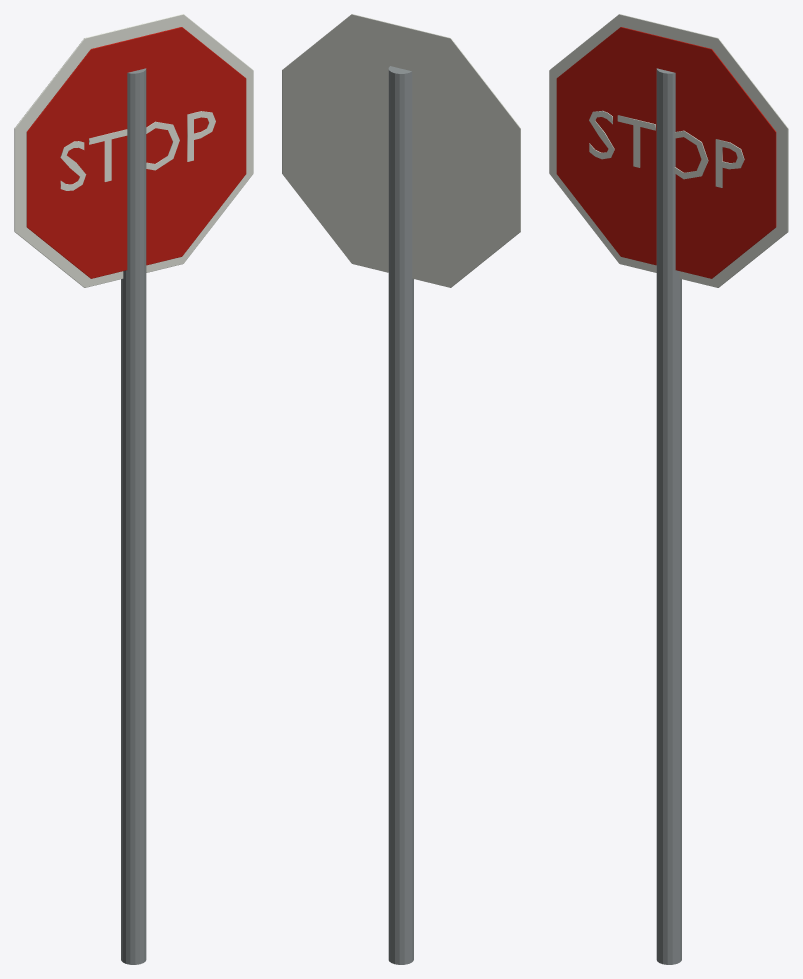
The model's file is stop-sign.glb.
The picture shows the model from 3 angles, left to right: view 1: azimuth 30°, elevation 25°; view 2: azimuth 150°, elevation 25°; view 3: azimuth 330°, elevation 25°; orthographic projection.
Visible parts, largest first — view 1: Rolled aluminum stop sign.001, Cylinder, Rolled aluminum stop sign, STOP lettering; view 2: Rolled aluminum stop sign, Cylinder; view 3: Rolled aluminum stop sign.001, Cylinder, Rolled aluminum stop sign, STOP lettering.
Part boxes in pixels (left/top/right/bottom): Rolled aluminum stop sign.001: left=26, top=27, right=246, bottom=278; Cylinder: left=121, top=68, right=146, bottom=964; Rolled aluminum stop sign: left=14, top=14, right=253, bottom=287; STOP lettering: left=60, top=111, right=215, bottom=190; Rolled aluminum stop sign: left=282, top=14, right=520, bottom=287; Cylinder: left=388, top=66, right=413, bottom=964; Rolled aluminum stop sign.001: left=556, top=27, right=776, bottom=278; Cylinder: left=656, top=68, right=681, bottom=964; Rolled aluminum stop sign: left=549, top=14, right=788, bottom=287; STOP lettering: left=589, top=110, right=744, bottom=187.
Bounding box in the file's own units: 0.7576 × 2.83 × 0.07.
